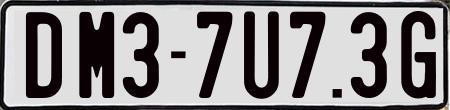3: (122, 12, 164, 99), (350, 9, 388, 99)
7: (195, 10, 235, 102), (289, 11, 326, 102)
D: (24, 11, 63, 98)
G: (399, 11, 433, 99)
M: (78, 9, 117, 100)
U: (242, 9, 283, 103)
